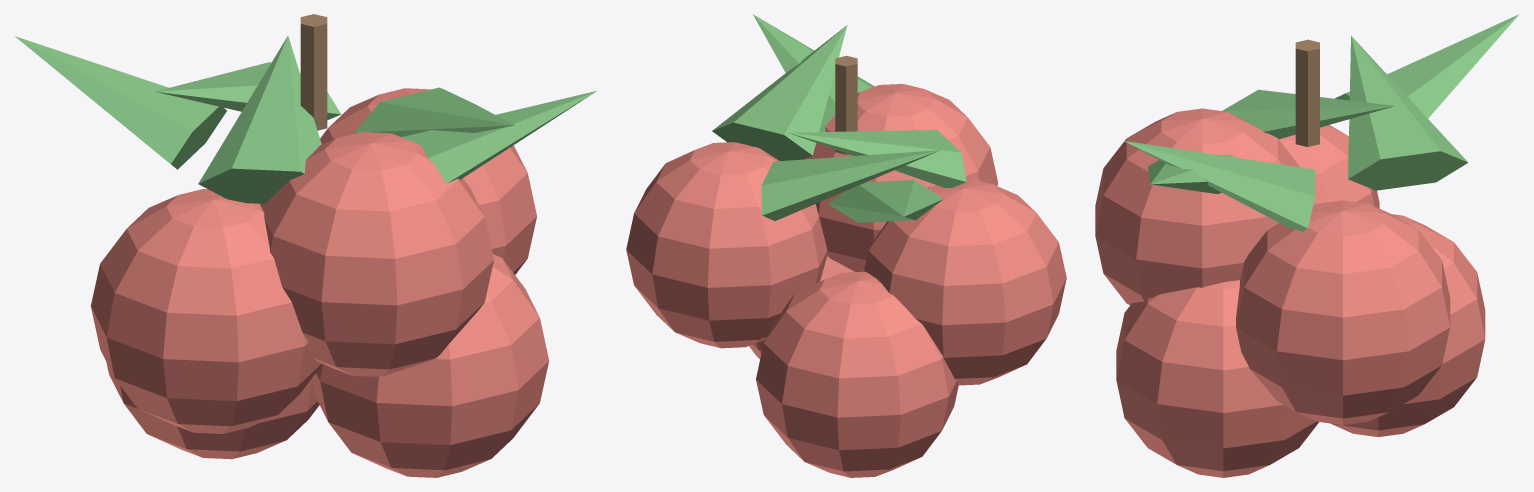
The model's file is 4096_sunberry.glb.
3 renders of one model, left to right at view 1: azimuth 30°, elevation 25°; view 2: azimuth 150°, elevation 25°; view 3: azimuth 270°, elevation 25°, orthographic. The views are drawn at different scales.
Size of the model in its own units: 0.68 by 0.635 by 0.6032.
